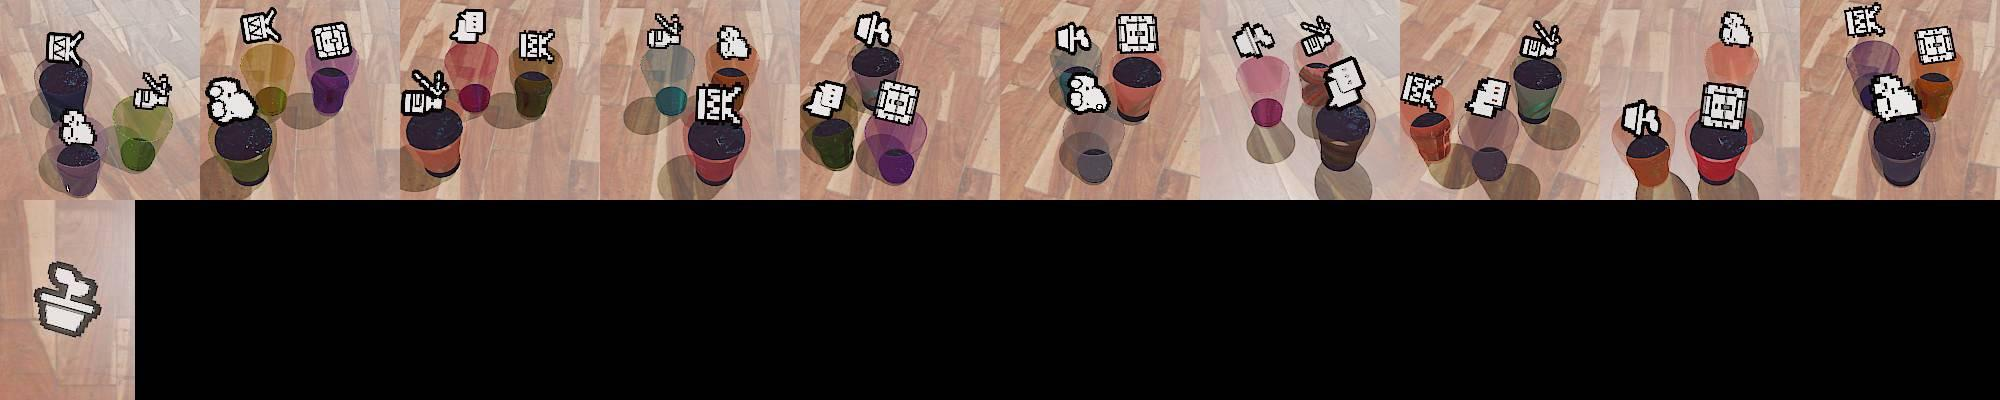icon: (32, 260, 103, 339), (1699, 80, 1750, 131), (1320, 55, 1367, 110), (1870, 73, 1922, 121), (205, 75, 258, 124), (402, 68, 452, 116), (871, 78, 921, 125), (1065, 68, 1111, 115), (1463, 74, 1511, 118), (694, 83, 744, 125), (1518, 17, 1564, 61), (1116, 13, 1159, 57), (1913, 24, 1958, 65), (804, 79, 847, 120), (131, 70, 173, 111), (1620, 99, 1662, 140), (310, 20, 352, 60), (1401, 70, 1443, 110), (852, 10, 894, 50), (60, 107, 98, 150), (1298, 15, 1337, 59), (1232, 20, 1273, 60), (239, 8, 281, 46), (645, 11, 684, 51), (1843, 3, 1884, 39), (1052, 19, 1092, 56), (46, 29, 84, 66), (1718, 10, 1755, 47), (714, 24, 753, 60), (452, 9, 487, 45), (518, 28, 556, 61)
